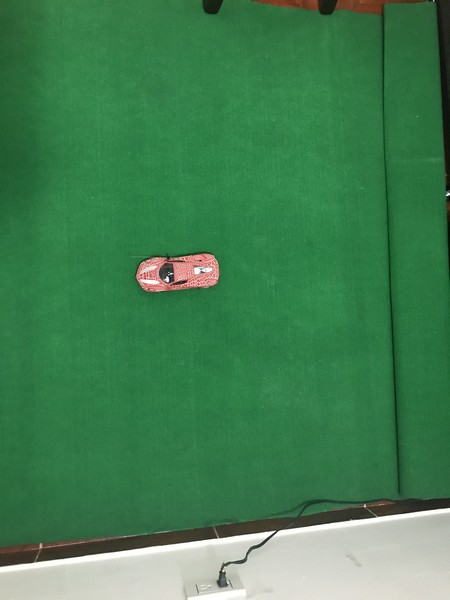RC: (133, 250, 222, 298)
